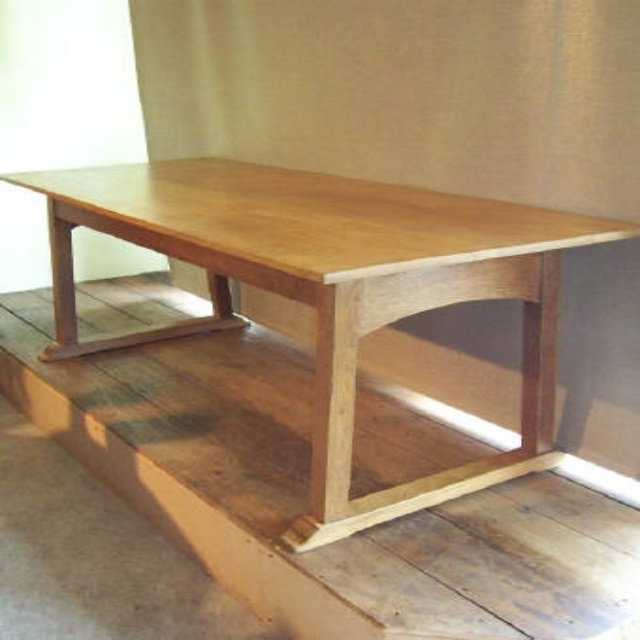obstacle: (4, 158, 636, 550)
